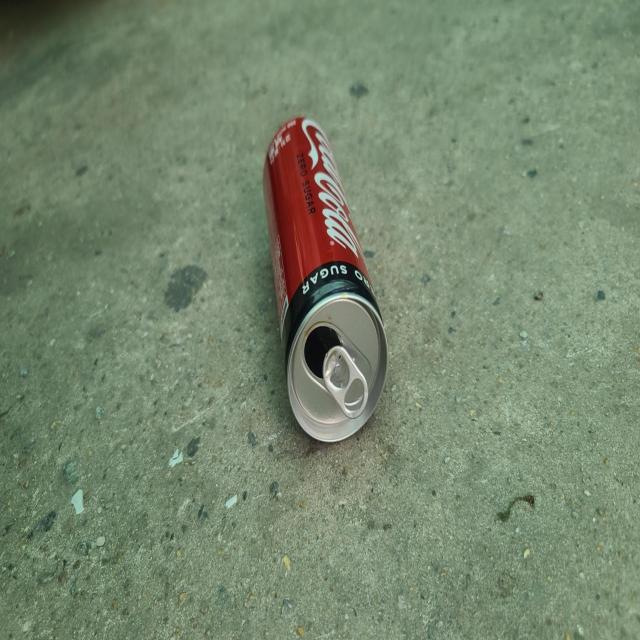can: (263, 115, 388, 441)
